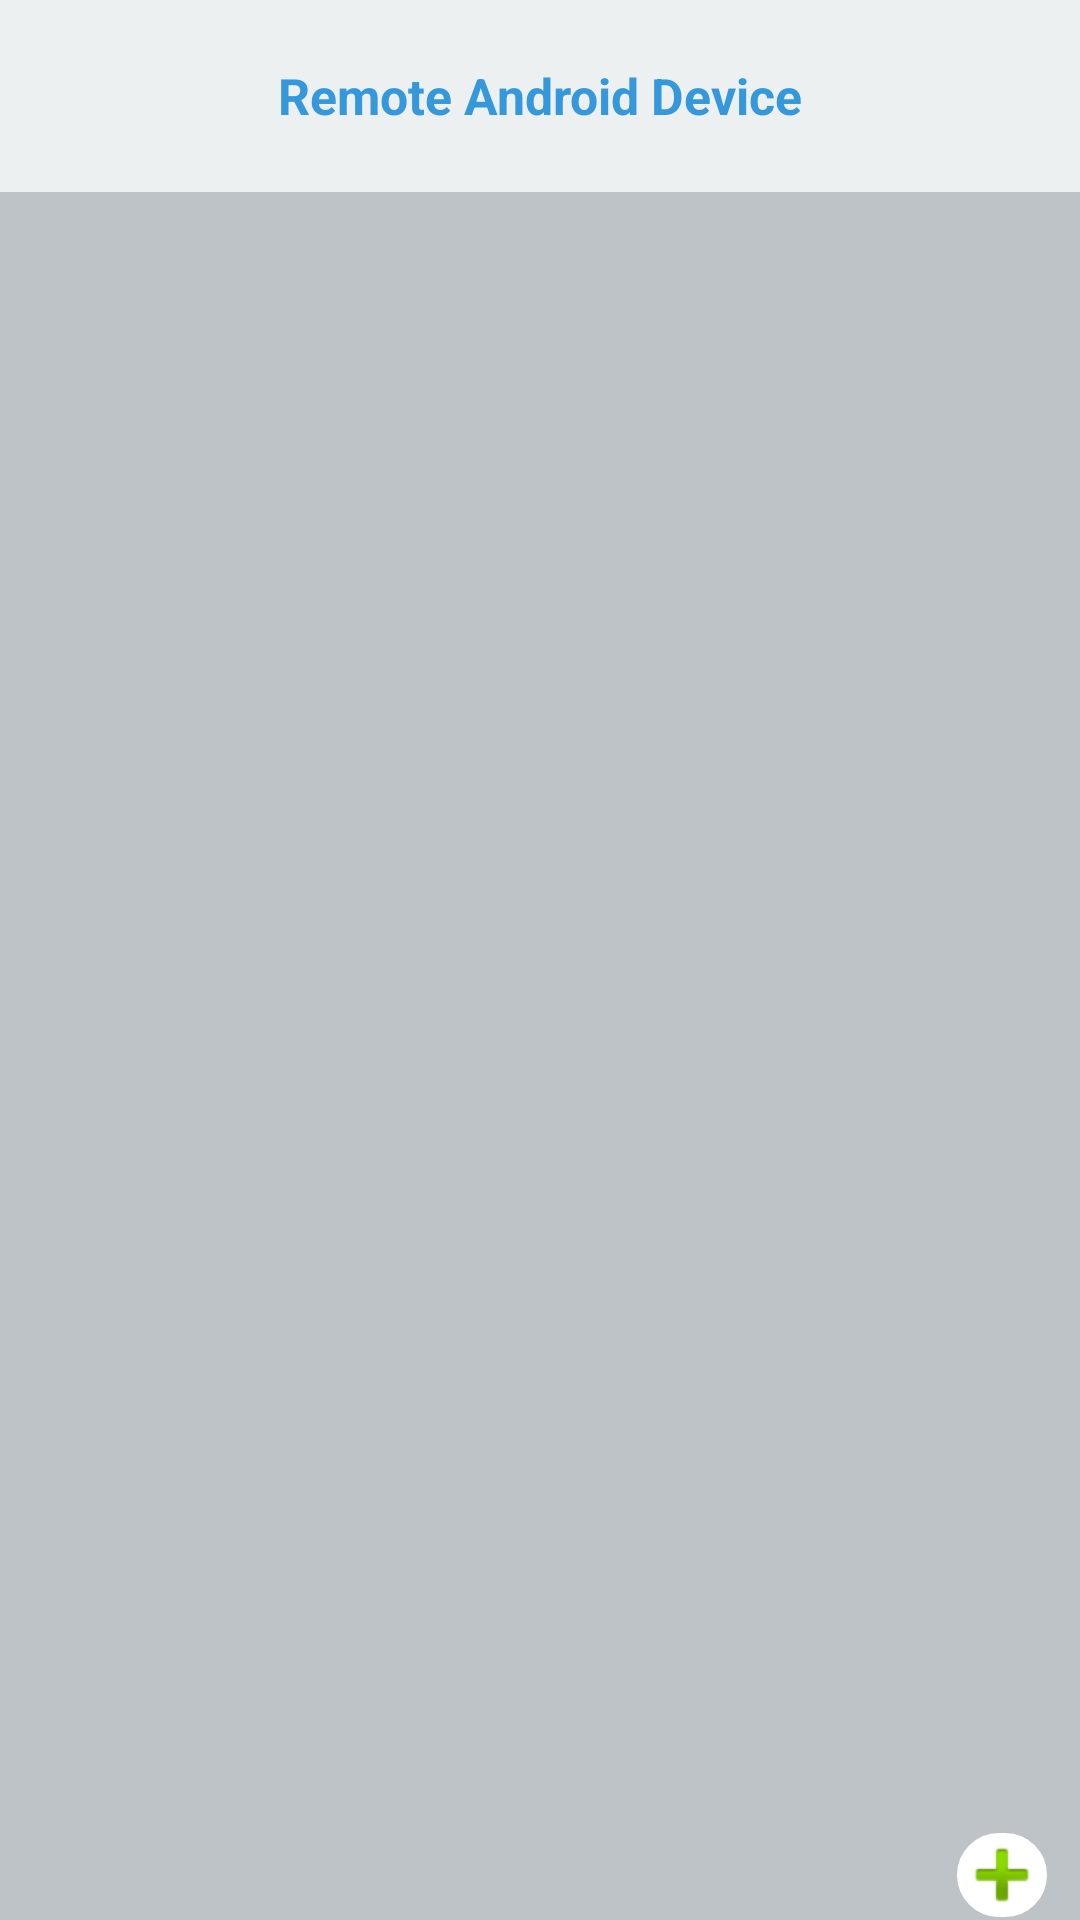

Screen size 1080x1920. Icon name, then its box in pixels as (x1, y1, x2, y2):
add: (957, 1833, 1047, 1917)
